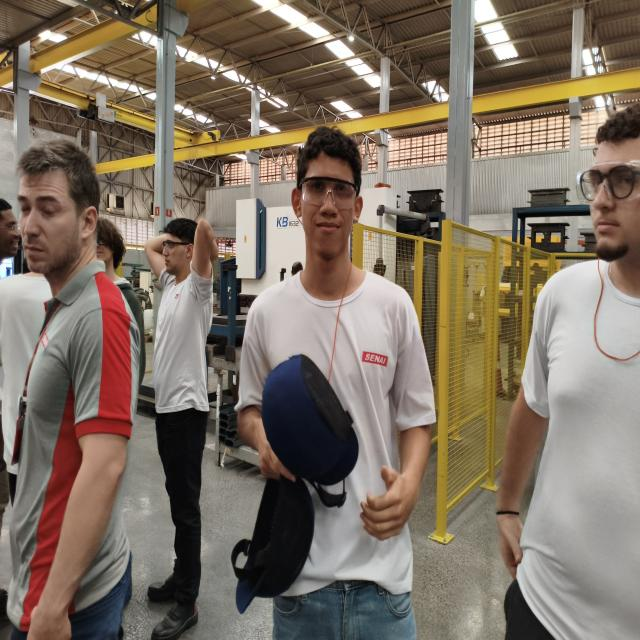oculos-epi: (576, 159, 639, 202), (296, 177, 358, 209), (163, 243, 189, 253)
sem_oculos: (19, 195, 94, 223), (92, 236, 113, 255), (0, 218, 19, 235)
